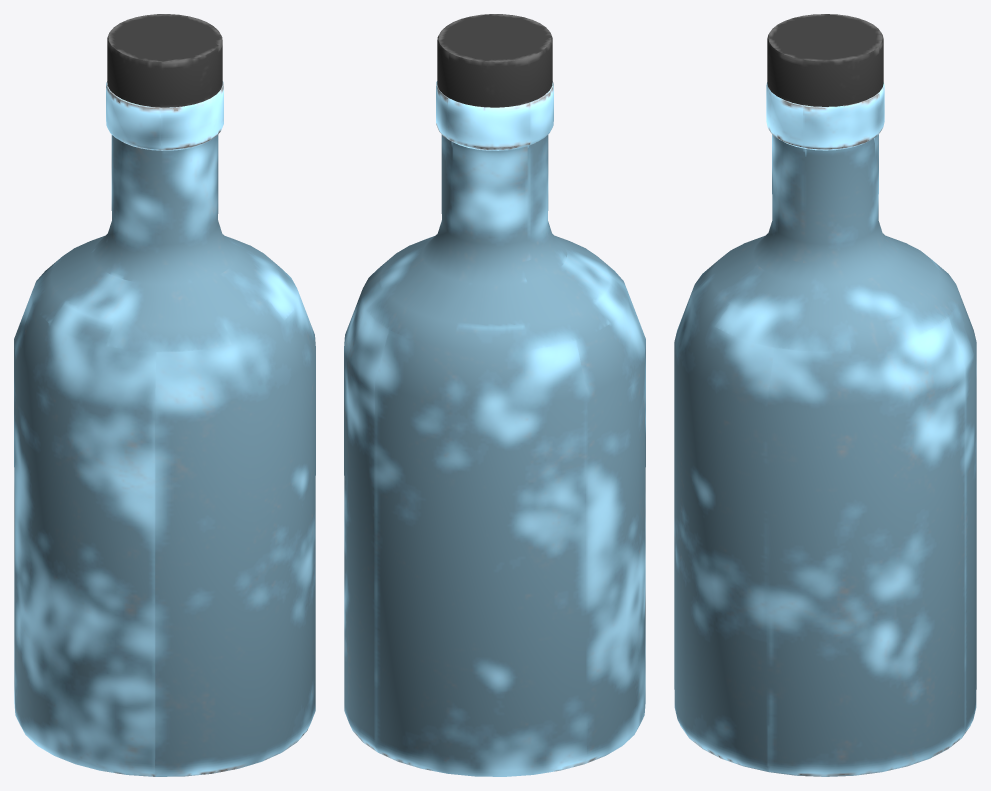
The model's file is Gin 2 .fbx.
The picture shows the model from 3 angles, left to right: view 1: azimuth 30°, elevation 25°; view 2: azimuth 150°, elevation 25°; view 3: azimuth 270°, elevation 25°; orthographic projection.
Parts seen in each view (by area): view 1: Cylinder.003; view 2: Cylinder.003; view 3: Cylinder.003.
Part boxes in pixels (x1,y1,x2,y2): Cylinder.003: (14, 14, 315, 776); Cylinder.003: (344, 14, 645, 776); Cylinder.003: (674, 14, 976, 776).
Bounding box in the file's own units: 14.68 × 36.4 × 14.68.
